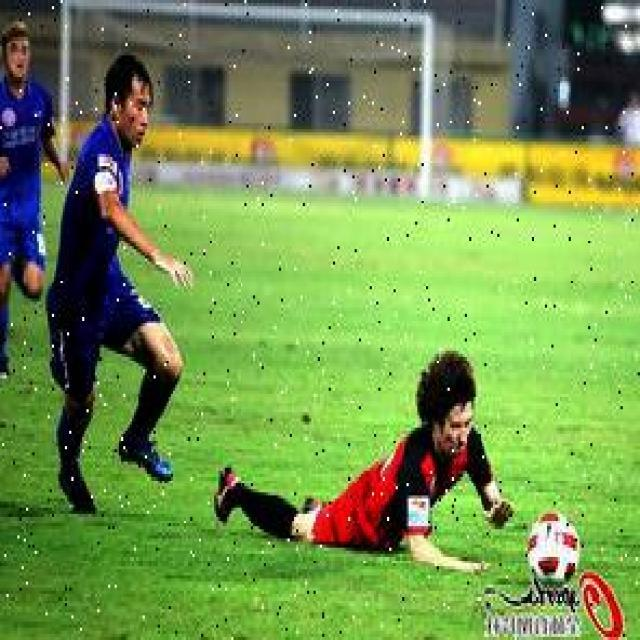fall: (212, 363, 510, 557)
